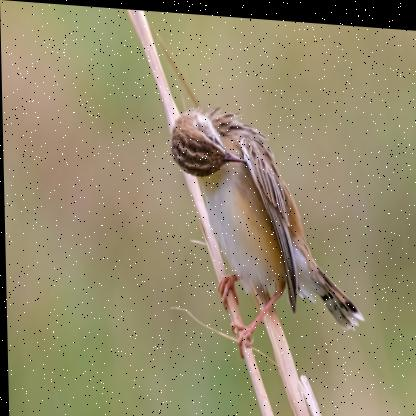Burung: (170, 100, 365, 362)
